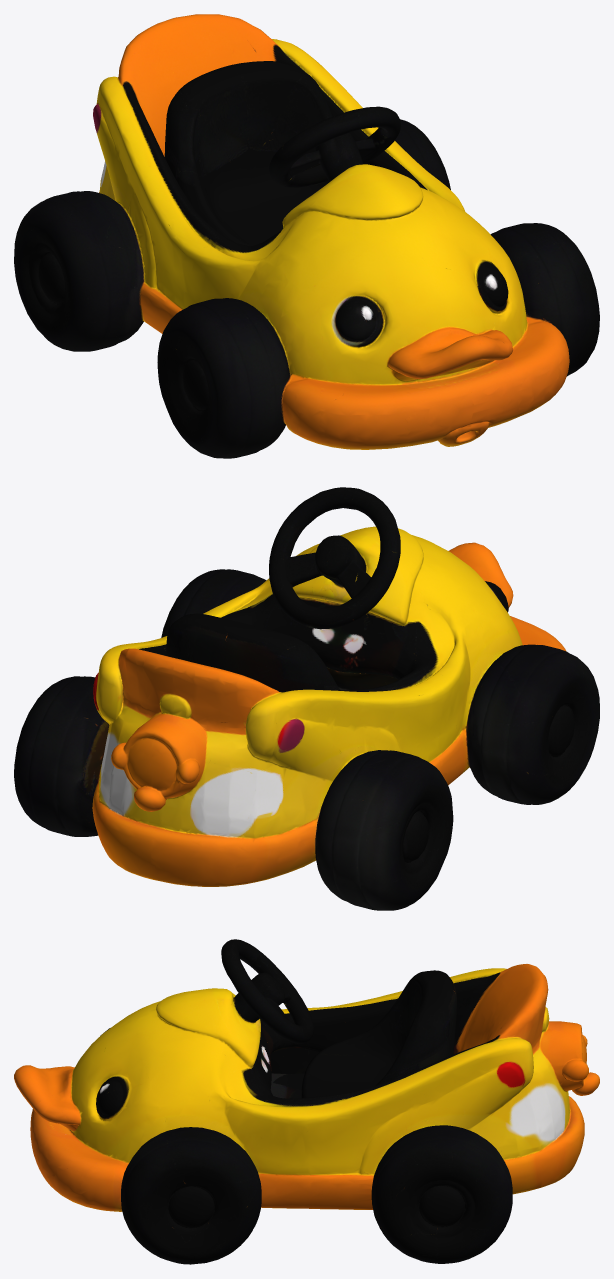
The model's file is kart_duck.glb.
3 renders of one model, top to bottom at view 1: azimuth 30°, elevation 25°; view 2: azimuth 150°, elevation 25°; view 3: azimuth 270°, elevation 25°, orthographic. The views are drawn at different scales.
Size of the model in its own units: 1.23 by 0.8835 by 1.9.
1 material, 1 textured.
